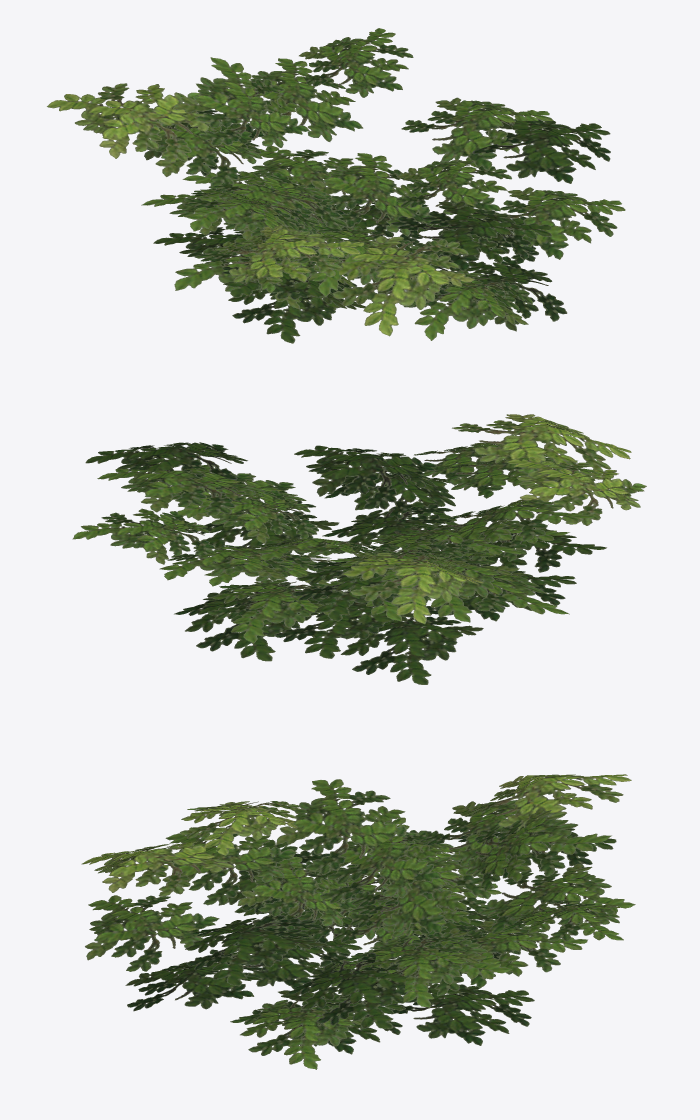
File: S_Tree_Green028_H1.FBX
3 renders of one model, top to bottom at view 1: azimuth 30°, elevation 25°; view 2: azimuth 150°, elevation 25°; view 3: azimuth 270°, elevation 25°, orthographic. The views are drawn at different scales.
Parts seen in each view (by area): view 1: S_Tree_Green028_H1; view 2: S_Tree_Green028_H1; view 3: S_Tree_Green028_H1.
Boxes of the visible parts, x1,y1,x2,y2 form: S_Tree_Green028_H1: (47, 28, 625, 343); S_Tree_Green028_H1: (72, 414, 646, 684); S_Tree_Green028_H1: (81, 774, 635, 1069).
Size of the model in its own units: 357 by 375 by 94.73.
Materials: 1 (1 with a texture image).
